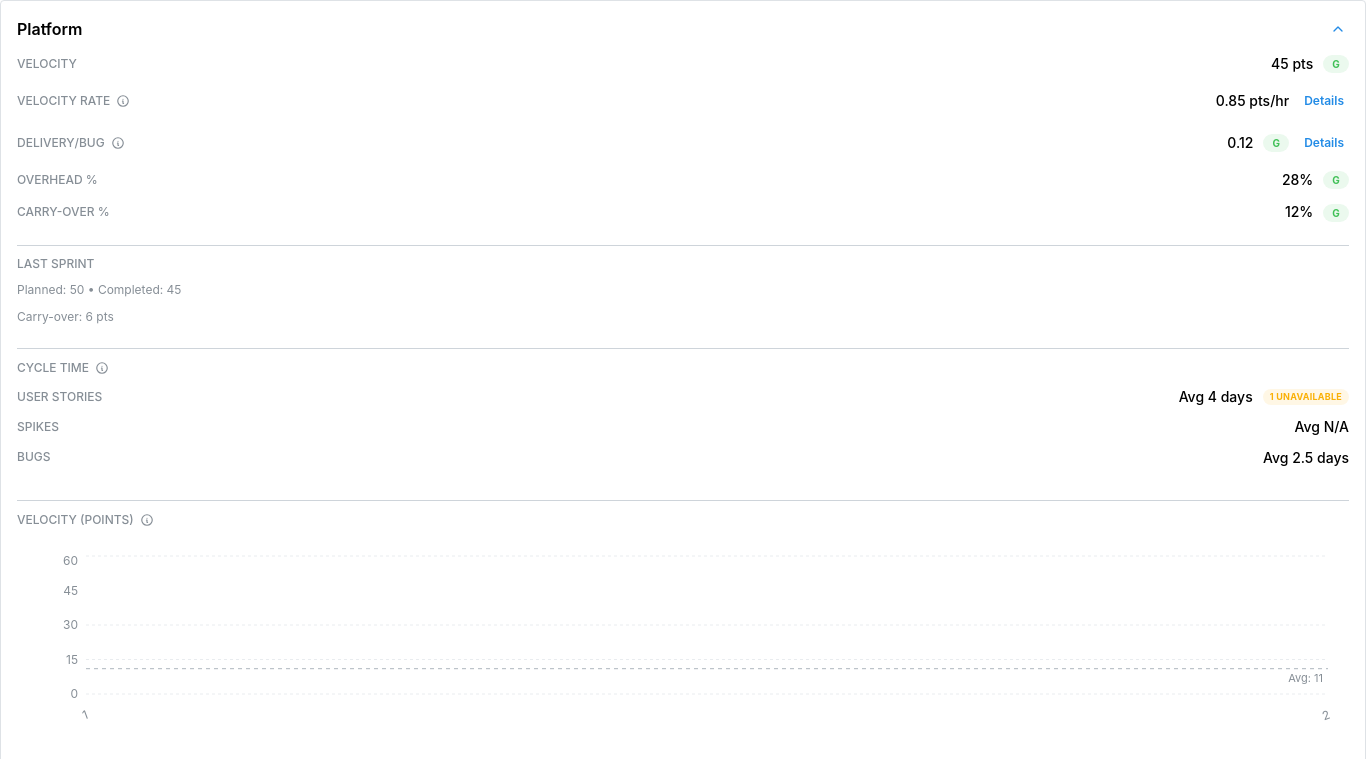
Scenario: WorkstreamHealthCard › opens rolling metric details for supported workstream metrics
Click the button with aria-label "Open rolling details for Velocity Rate in Platform" at (1324, 101), box [1299, 86, 1349, 116]
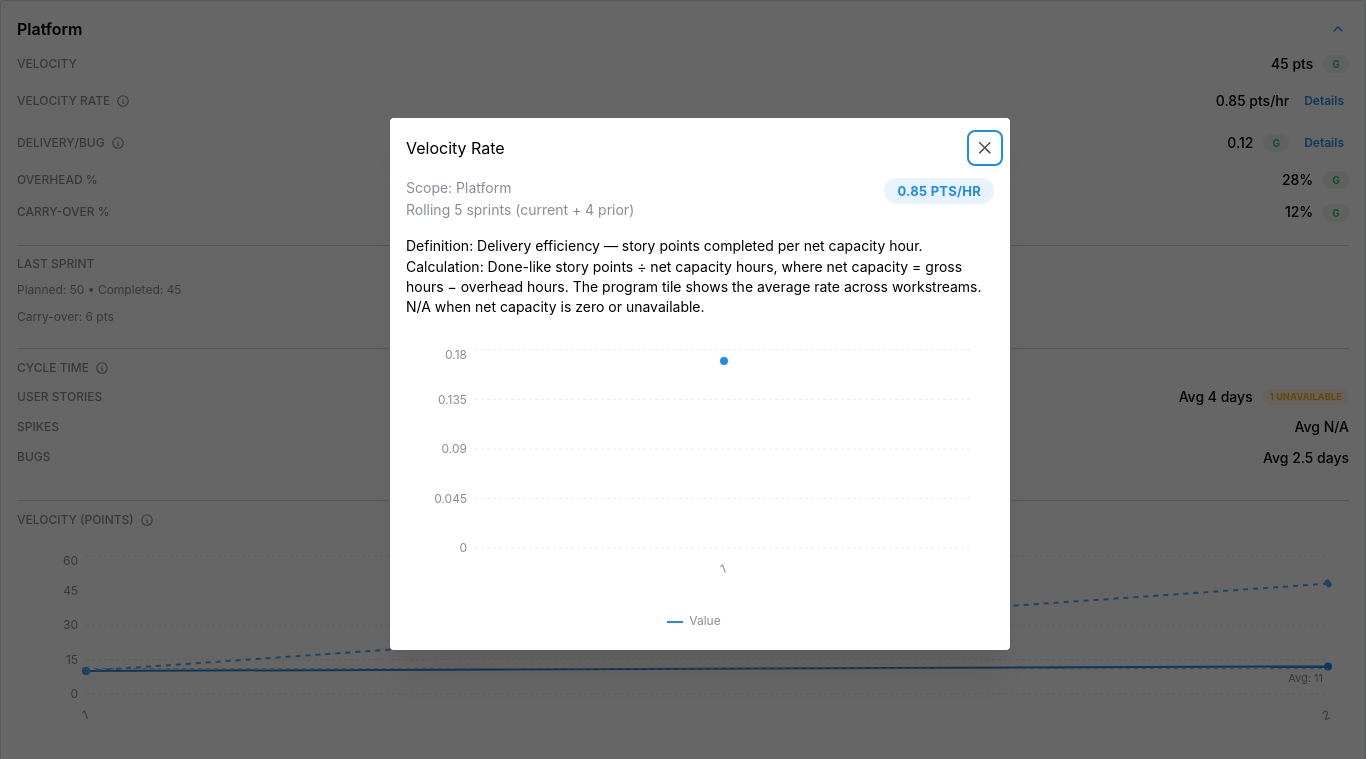
Check: the dialog "Velocity Rate" is shown, box [390, 118, 1010, 650]
Check: the text "Scope: Platform" is shown, box [406, 179, 512, 196]
